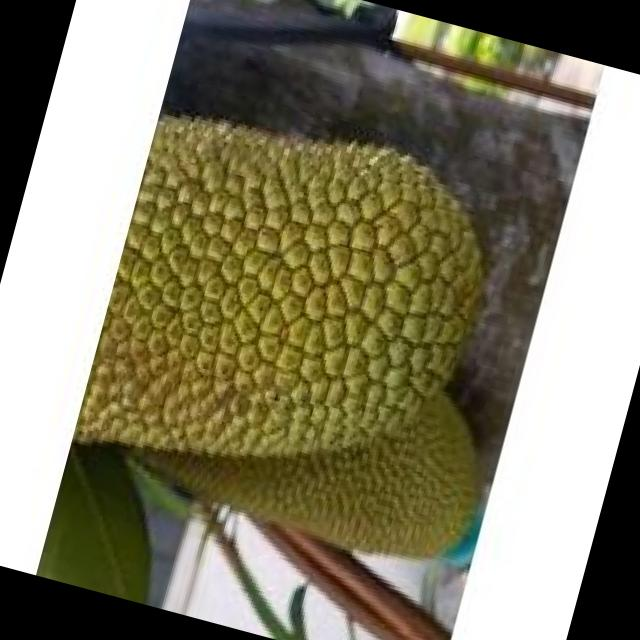Fruit: (48, 134, 543, 611)
